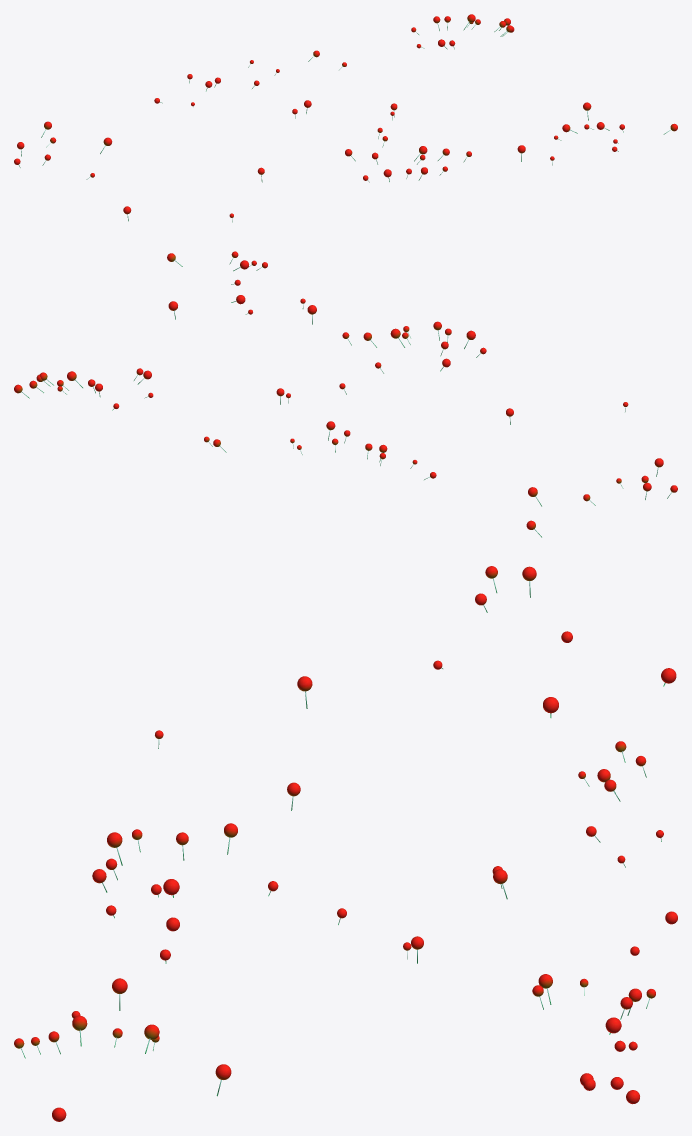
The model's file is rtb.fbx.
The picture shows the model from 3 angles, top to bottom: view 1: azimuth 30°, elevation 25°; view 2: azimuth 150°, elevation 25°; view 3: azimuth 270°, elevation 25°; orthographic projection. The views are drawn at different scales.
Visible parts, largest first — view 1: treeBunch; view 2: treeBunch; view 3: treeBunch.
Part boxes in pixels (x1,y1,x2,y2): treeBunch: [14, 14, 677, 222]; treeBunch: [14, 251, 677, 537]; treeBunch: [14, 566, 677, 1121].
Bounding box in the file's own units: 28929 × 2472 × 15711.
Materials: 1 (1 with a texture image).
